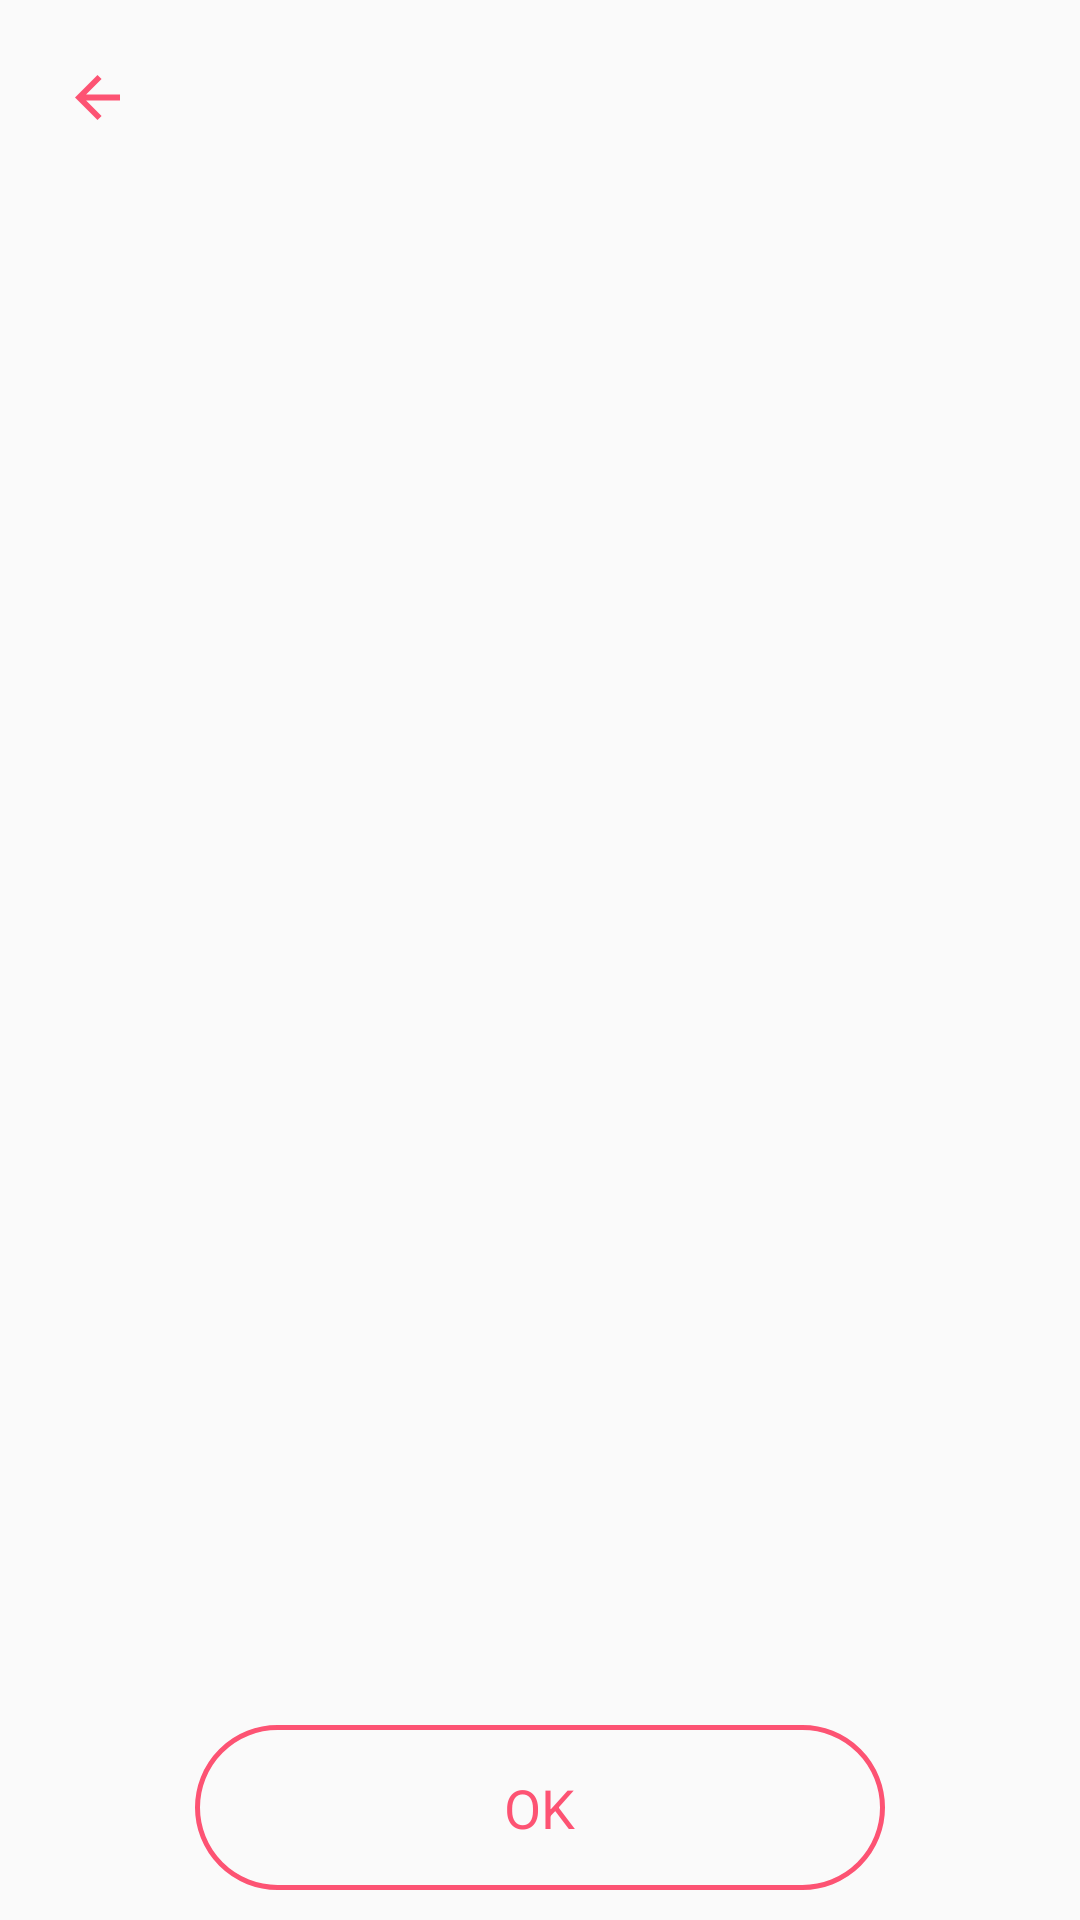

Where to tap for icons on this 1080px×1920px app screen, as [x,y]:
backward: [97,97]
